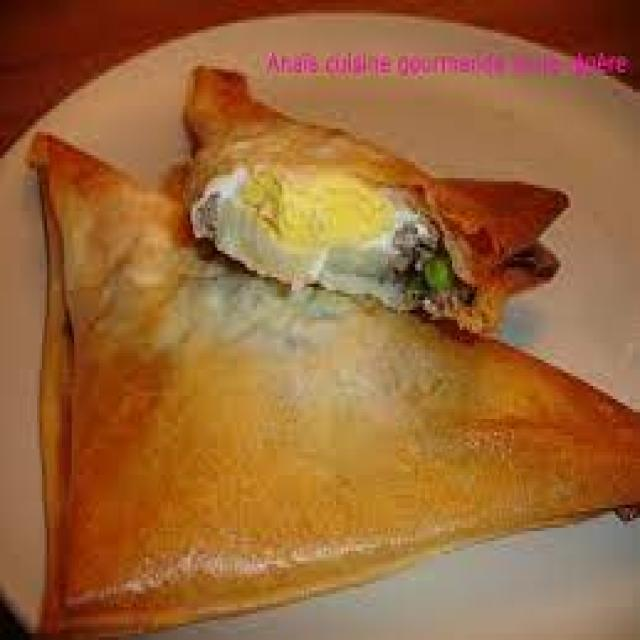brik: (9, 177, 600, 640)
